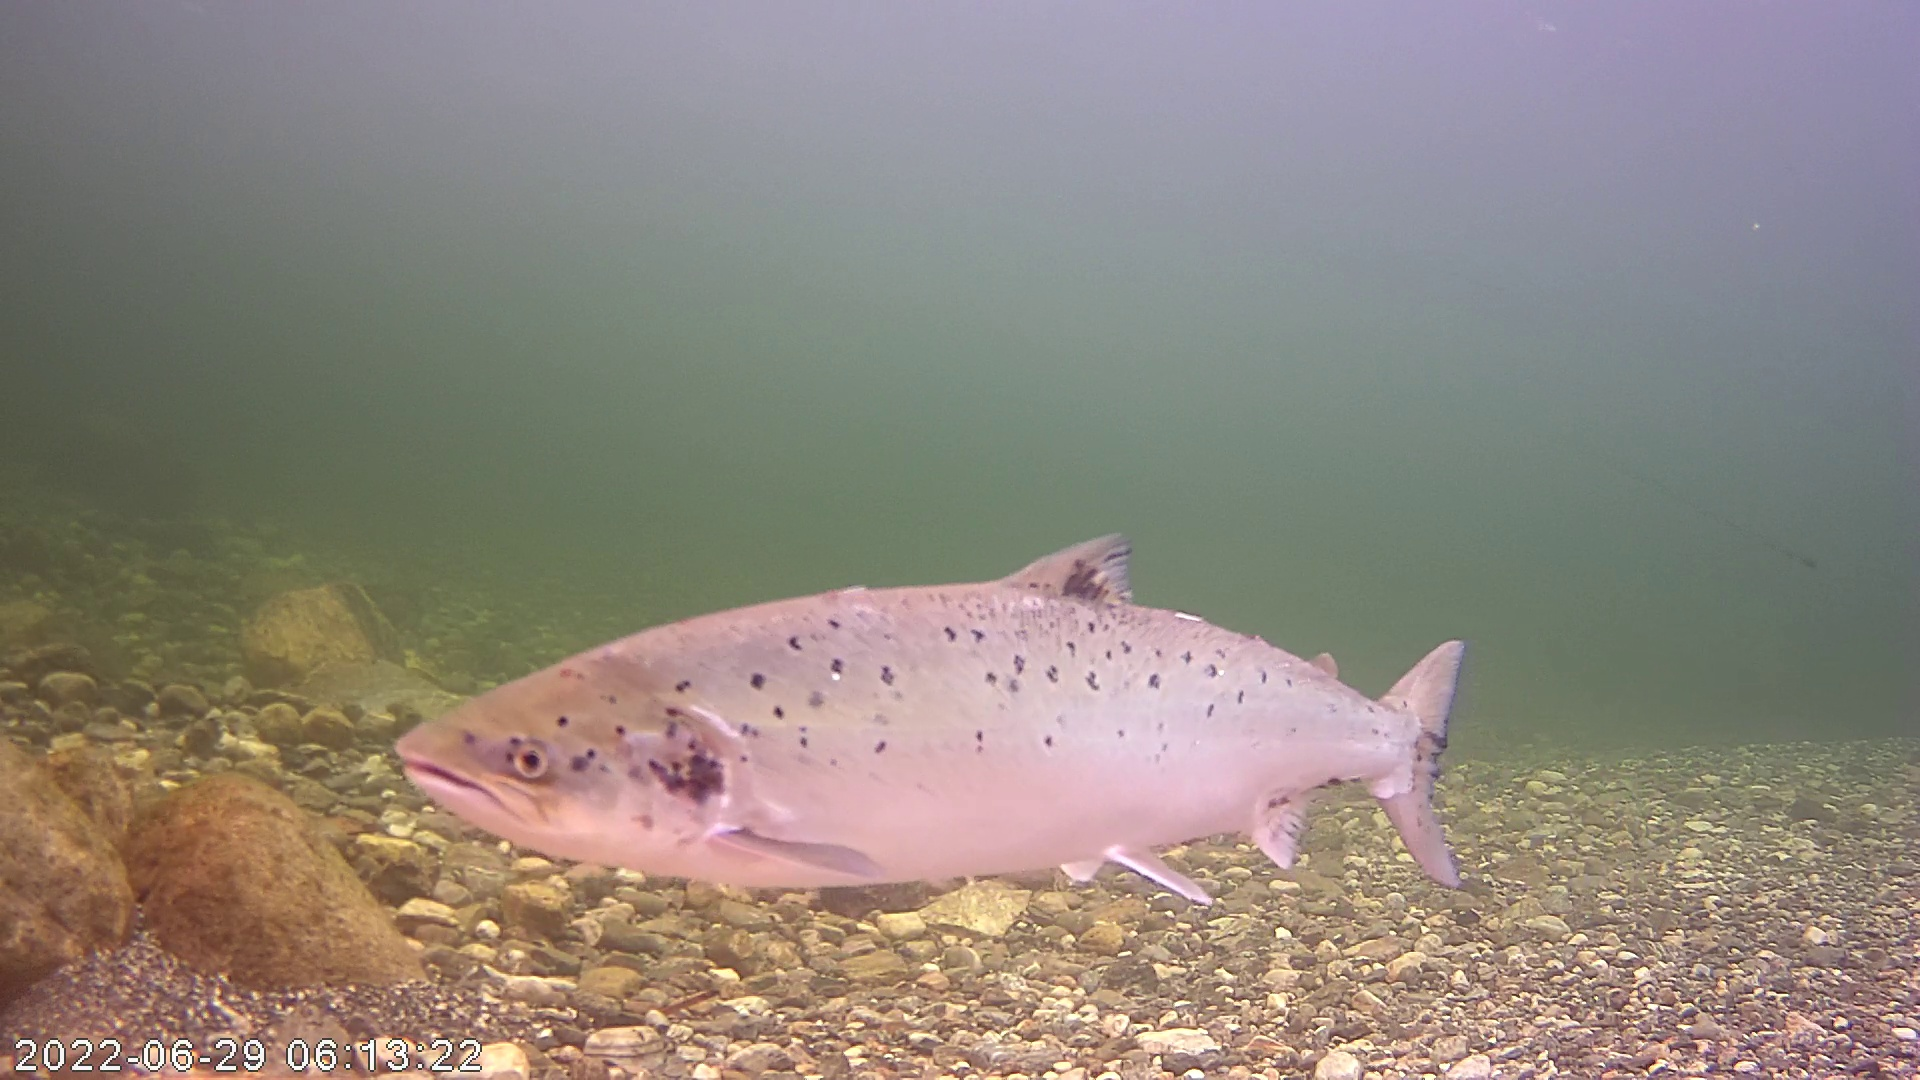salmon: (380, 471, 1485, 939)
